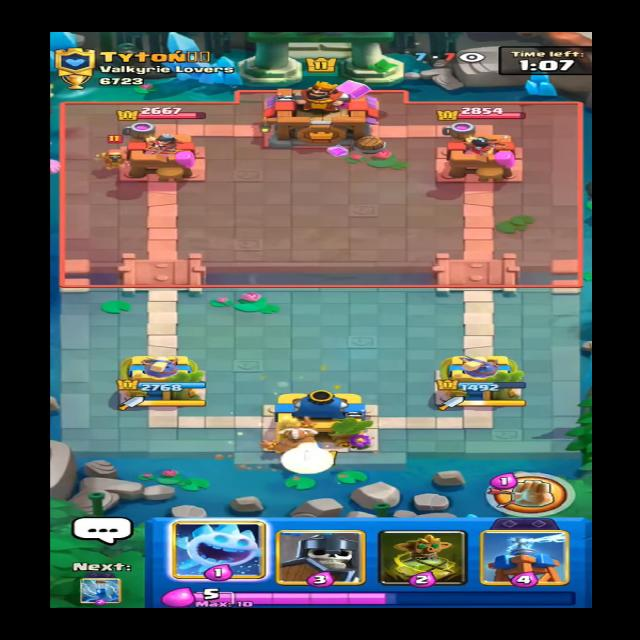wizard: (87, 134, 132, 172)
